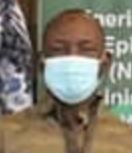with_facemask: (42, 58, 104, 104)
